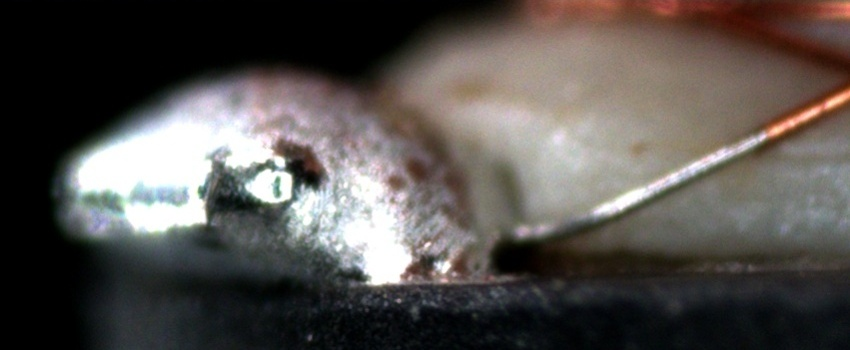DL: (750, 127, 849, 184)
TS: (510, 129, 771, 245)
